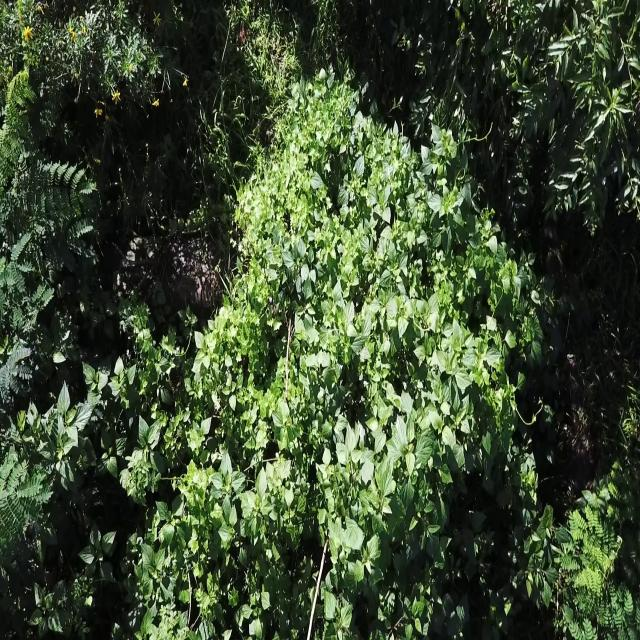Mysore-Thorn-Weed: (0, 66, 100, 240), (556, 487, 640, 639), (0, 221, 57, 408), (0, 446, 50, 572)
